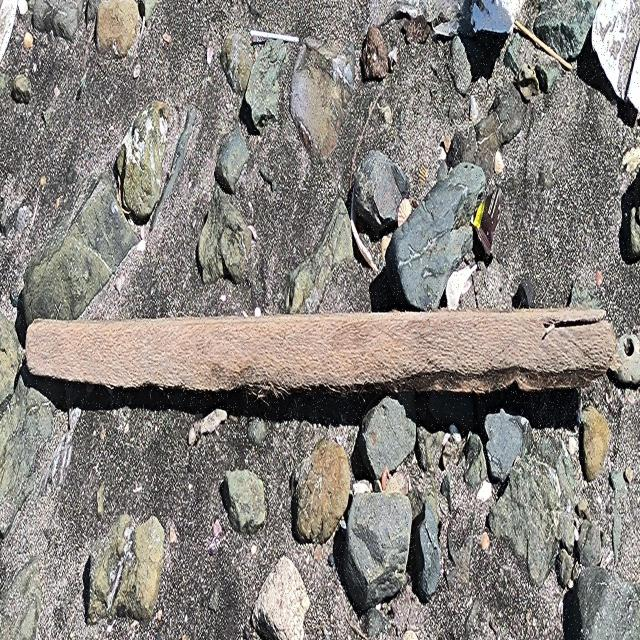plastic_waste: (470, 188, 504, 256), (252, 31, 301, 45)
wood_waste: (27, 313, 615, 395)
